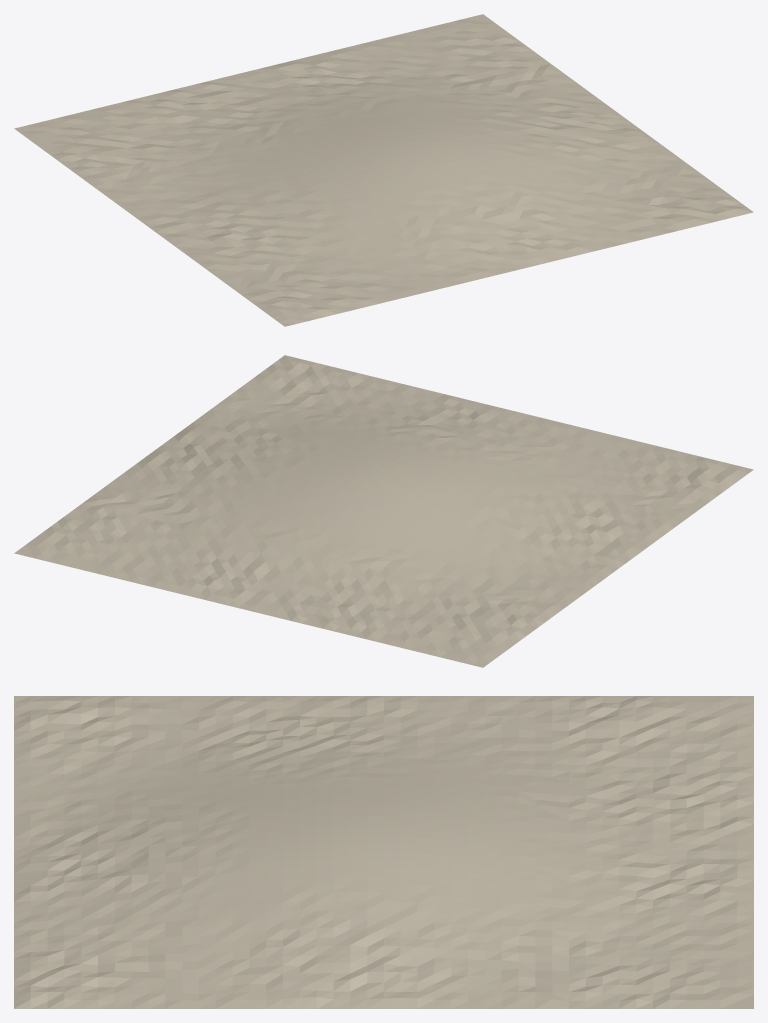
The model's file is Ground_m_06.fbx.
3 renders of one model, top to bottom at view 1: azimuth 30°, elevation 25°; view 2: azimuth 150°, elevation 25°; view 3: azimuth 270°, elevation 25°, orthographic. The views are drawn at different scales.
Parts seen in each view (by area): view 1: Ground_m_06; view 2: Ground_m_06; view 3: Ground_m_06.
Boxes of the visible parts, x1,y1,x2,y2 form: Ground_m_06: [14, 14, 753, 326]; Ground_m_06: [14, 355, 753, 667]; Ground_m_06: [14, 696, 753, 1008].
Size of the model in its own units: 10000 by 472 by 10000.
